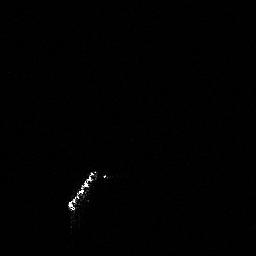ship: (66, 169, 110, 230)
